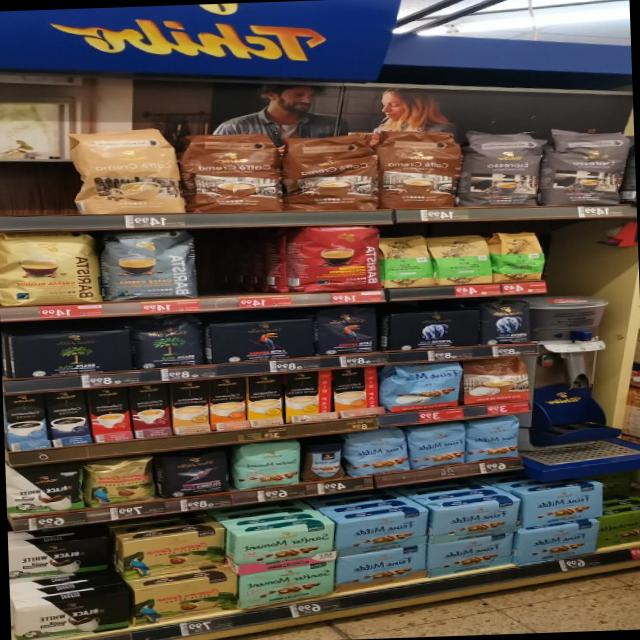AB Bohne: (480, 298, 532, 346)
AB Gemahlen: (384, 308, 483, 352)
Athiopien Bohne: (493, 230, 546, 284)
Athiopien Gemahlen: (428, 231, 493, 287), (378, 232, 432, 288)
BM Bohne: (132, 313, 205, 370)
BM Gemahlen: (9, 329, 131, 379)
BW Bohne: (6, 464, 81, 516)
BW Gemahlen: (15, 590, 132, 640), (8, 535, 116, 583)
Barista CB: (0, 231, 100, 306)
Barista CC: (102, 228, 198, 303)
Barista Kolumbien: (288, 224, 382, 294)
C Fino Bohne: (158, 446, 231, 498)
CC Mild: (71, 120, 183, 216)
CC Vollmundig: (462, 356, 534, 406)
CC Vollmundig 36 Pads: (184, 128, 284, 214), (282, 129, 378, 214), (378, 128, 458, 208)
Colombia BB Bohne: (84, 454, 158, 508)
Colombia BB Gemahlen: (121, 526, 227, 580), (133, 574, 236, 626)
Espresso Aromatisch: (538, 126, 633, 206), (456, 130, 544, 208)
FM 36 Pads: (385, 361, 464, 413)
FM Bohne: (344, 426, 408, 477), (408, 421, 468, 470), (466, 414, 525, 463)
FM Gemahlen: (334, 510, 428, 557), (336, 544, 426, 593), (433, 498, 522, 544), (427, 532, 513, 578), (522, 482, 607, 528), (517, 520, 601, 564)
FM Instant: (302, 439, 346, 483)
LG Bohne: (314, 303, 384, 356)
LG Gemahlen: (206, 318, 316, 364)
SM Bohne: (232, 438, 304, 491)
SM Gemahlen: (236, 522, 336, 574), (238, 561, 335, 610)
Simo CCMild: (284, 370, 331, 423)
Simo CCMild bigpack: (248, 373, 284, 426)
Simo CCVollmundig: (332, 366, 379, 418)
Simo CCVollmundig bigpack: (209, 376, 247, 430)
Simo Decaff: (171, 380, 210, 434)
Simo Es Brazil: (87, 386, 133, 444)
Simo Es Caramel: (130, 383, 171, 438)
Simo Es Kraft: (48, 390, 90, 446)
Simo Es Vanilla: (6, 393, 49, 450)
